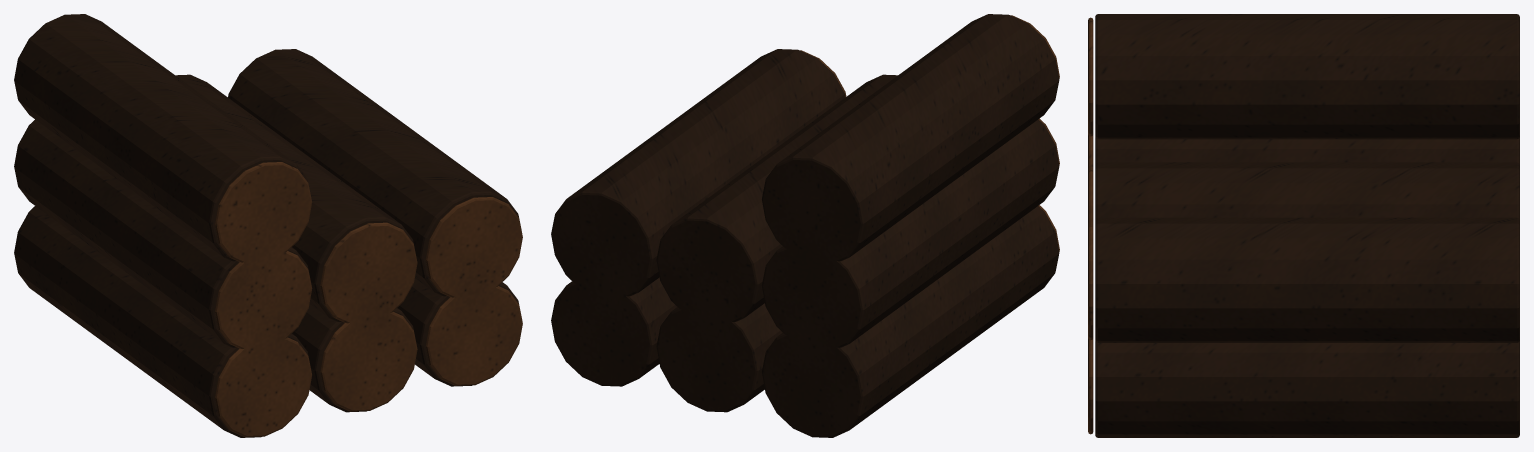
The model's file is PROP-B50FBD8BC166_lod0.glb.
3 views of the same model, side by side, from view 1: azimuth 30°, elevation 25°; view 2: azimuth 150°, elevation 25°; view 3: azimuth 270°, elevation 25° (orthographic). The views are drawn at different scales.
Parts seen in each view (by area): view 1: log, cut_log_end; view 2: log, cut_log_end; view 3: log, cut_log_end.
Part boxes in pixels (x1,y1,x2,y2): log: (14,14,521,437); cut_log_end: (215,162,522,437); log: (551,14,1059,437); cut_log_end: (800,15,1059,251); log: (1095,14,1519,437); cut_log_end: (1088,17,1093,434).
Bounding box in the file's own units: 1.1 × 0.94 × 1.22.
Materials: 2 (2 with a texture image).
